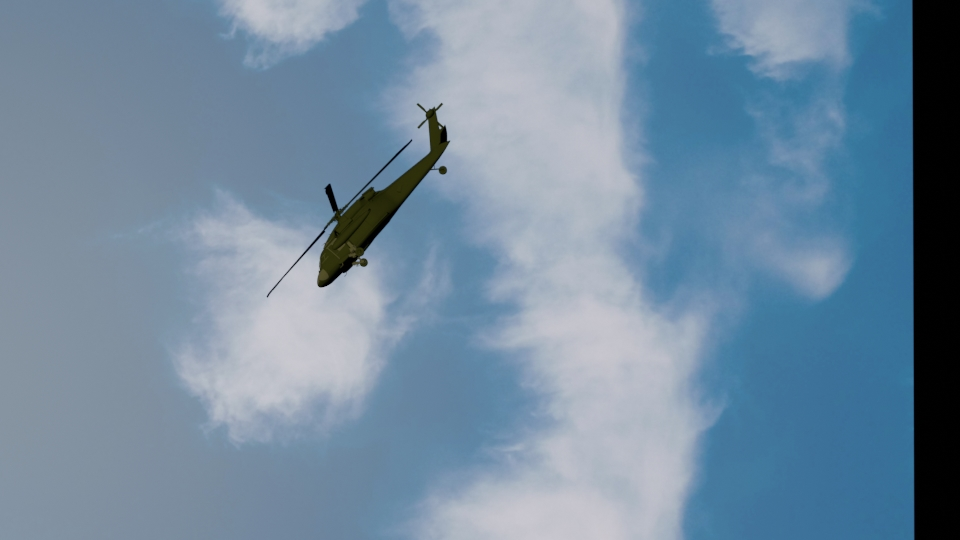heli: (313, 105, 451, 290)
